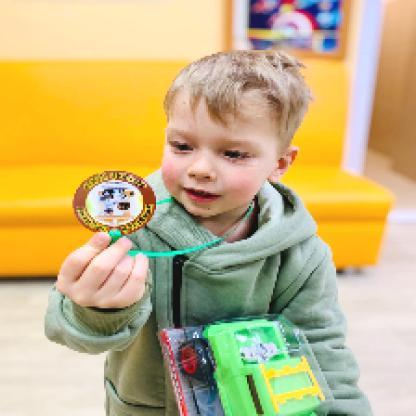child: (44, 49, 375, 415)
